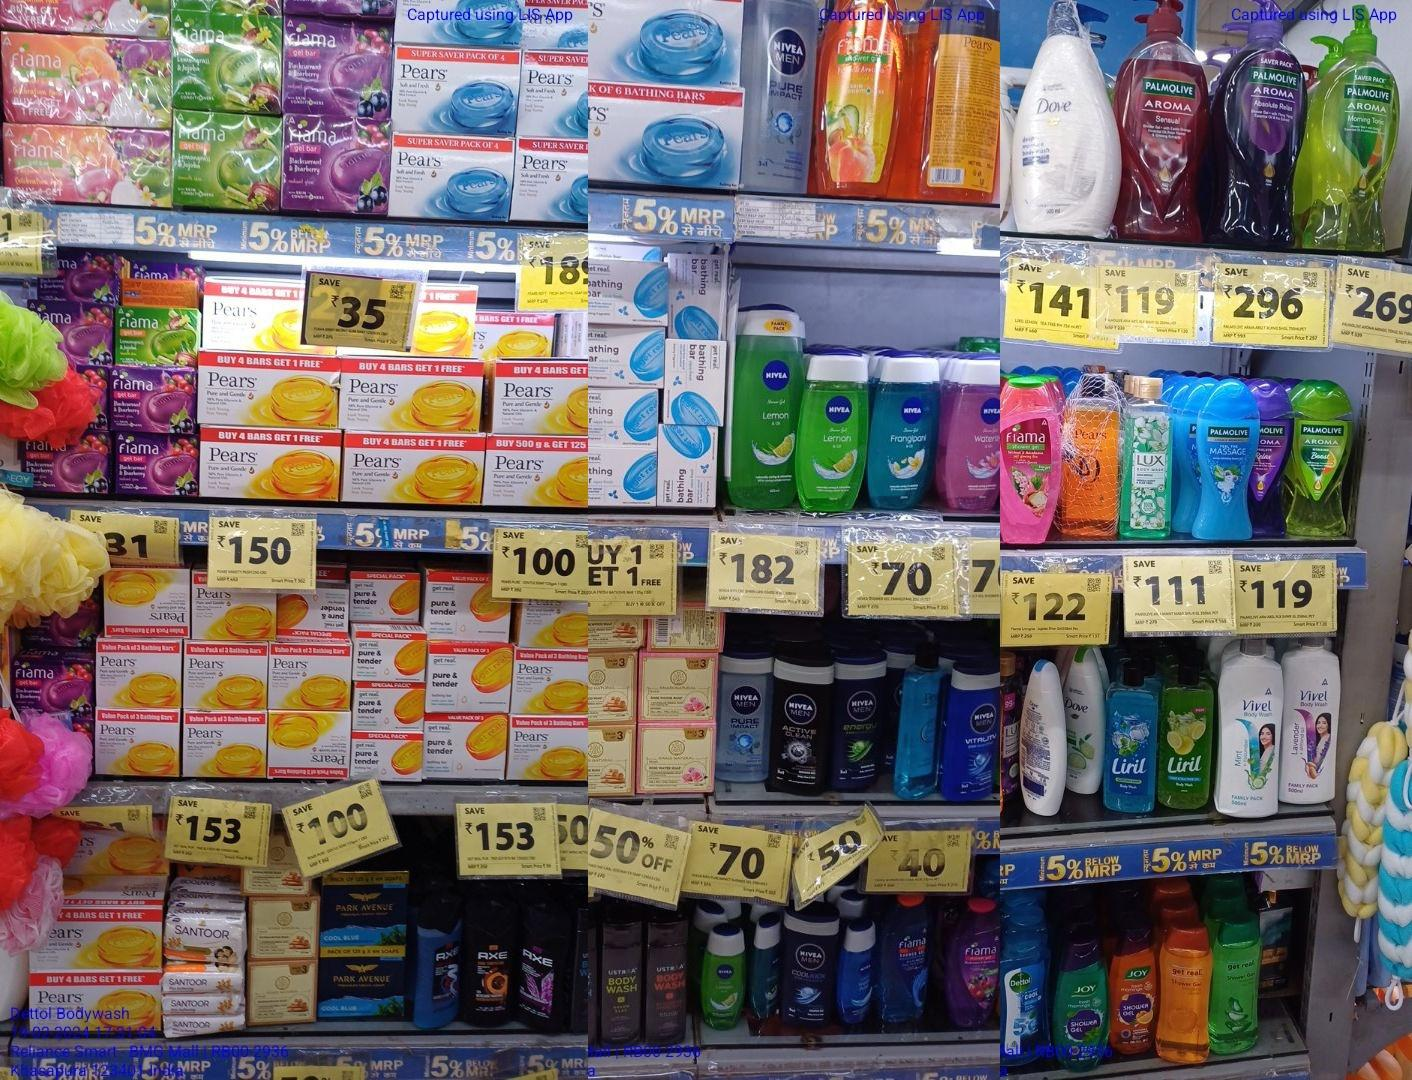Dettol_Bodywash_Cool: (1001, 937, 1051, 1065)
Fiama_Shower_Gel_Patchouli_and_Macadamia_250ML: (1000, 376, 1062, 545)
Get_Real_Shower_Gel_Moisturising_Glycerin_300ML: (1160, 925, 1212, 1063)
Joy_Shower_Gel_Mandarin_and_Lemongrass_250ML: (1110, 933, 1158, 1054)
Joy_Shower_Gel_Mint_and_Eucalyptus_250ML: (1055, 939, 1109, 1072)
Liril_Cooling_Mint_Body_Wash_250ML: (1102, 659, 1157, 812)
Liril_Lime_and_Tea_Tree_Oil_Body_Wash_250ML: (1160, 660, 1215, 809)
Lux_Body_Wash_Skin_Detox_Freesia_Scent_and_Alove_Vera_245ML: (1122, 376, 1175, 537)
Nivea_Shower_Gel_Frangipani_and_Oil_250ML: (873, 358, 936, 508)
Nivea_Shower_Gel_Lemon_and_Oil_250ML: (735, 312, 796, 514), (805, 356, 869, 509), (700, 927, 744, 1031)
Nivea_Shower_Gel_Waterlily_and_Oil_250ML: (948, 358, 999, 511)
Palmolive_Aroma_Moments_Feel_The_Massage_Shower_Gel_250ML: (1193, 383, 1260, 541)
Pears_Pure_Glycerin_and_Mint_Extracts_Body_Wash_250ML: (899, 653, 938, 798)
